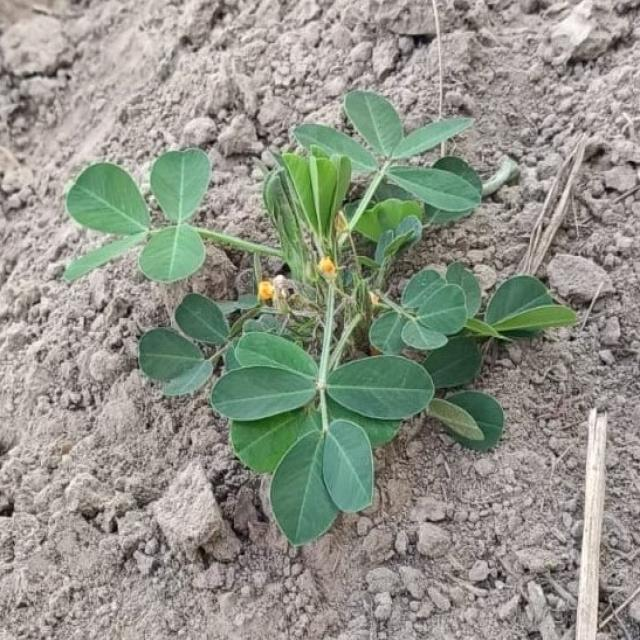plant: (64, 91, 575, 545)
